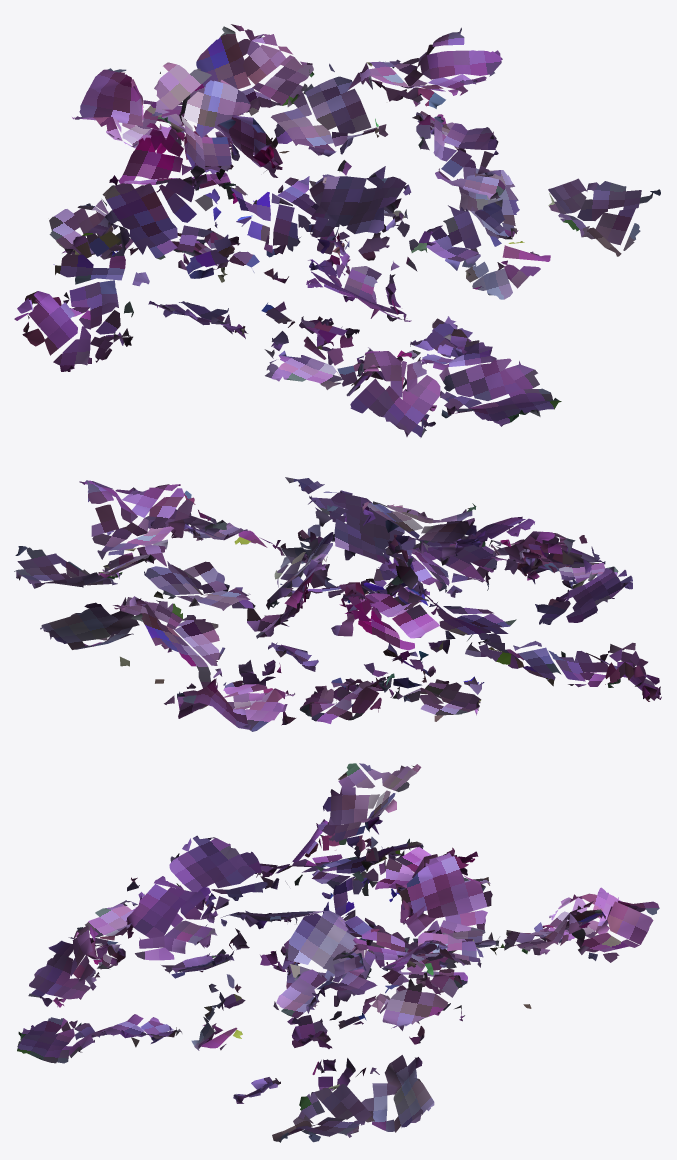
The model's file is mukdenia.obj.
3 renders of one model, top to bottom at view 1: azimuth 30°, elevation 25°; view 2: azimuth 150°, elevation 25°; view 3: azimuth 270°, elevation 25°, orthographic. The views are drawn at different scales.
Bounding box in the file's own units: 2.24 × 0.9139 × 2.12.
Materials: 1 (1 with a texture image).
